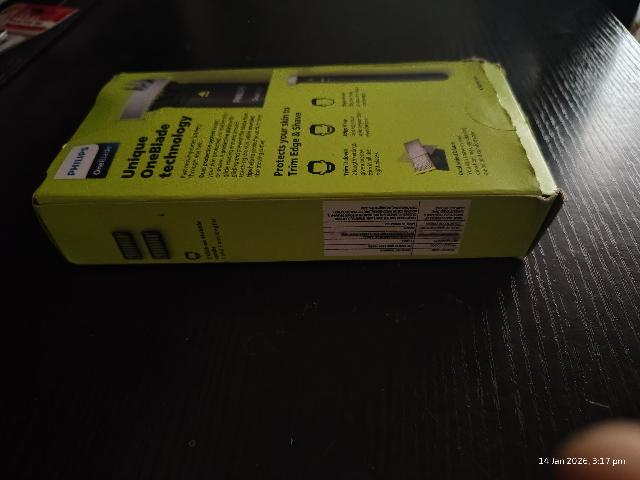phillips oneblade: (52, 73, 568, 283)
